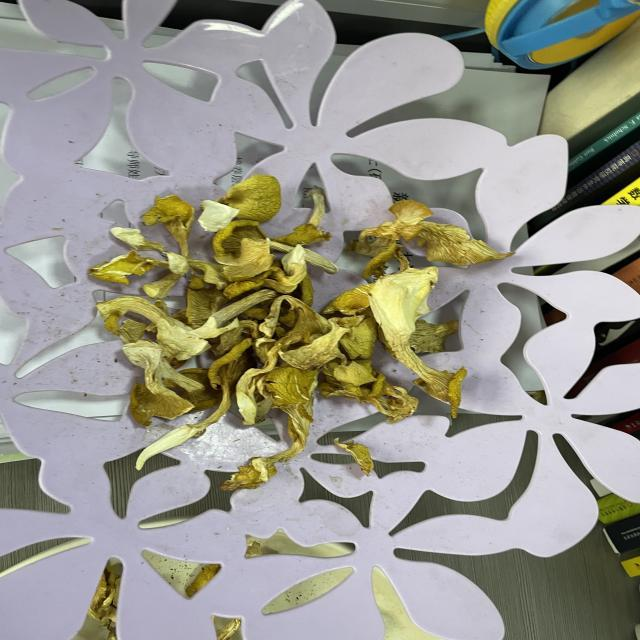Pleurotus citrinopileatus: (227, 97, 640, 414)
